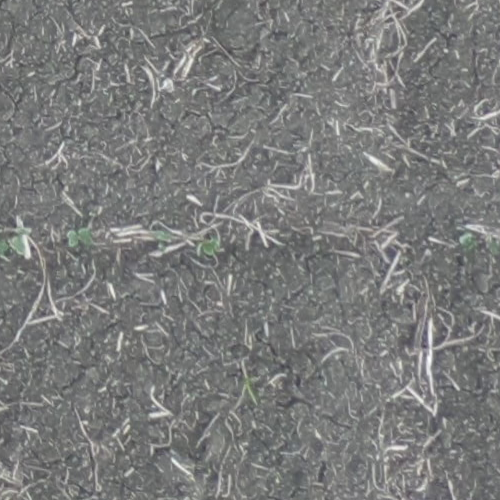isolated: (0, 226, 32, 259), (65, 227, 94, 247), (152, 227, 169, 251), (202, 238, 215, 257)
